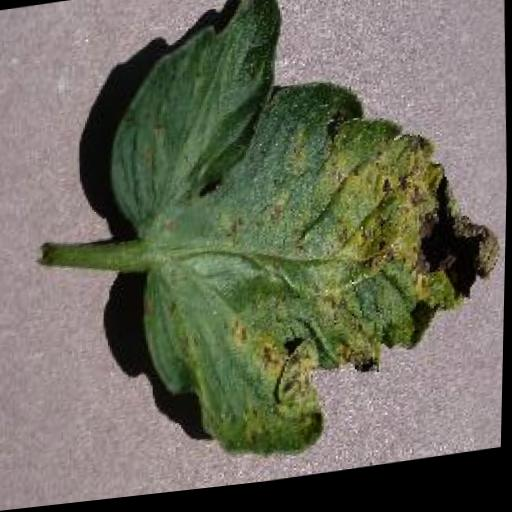Septoria: (97, 0, 512, 485)
